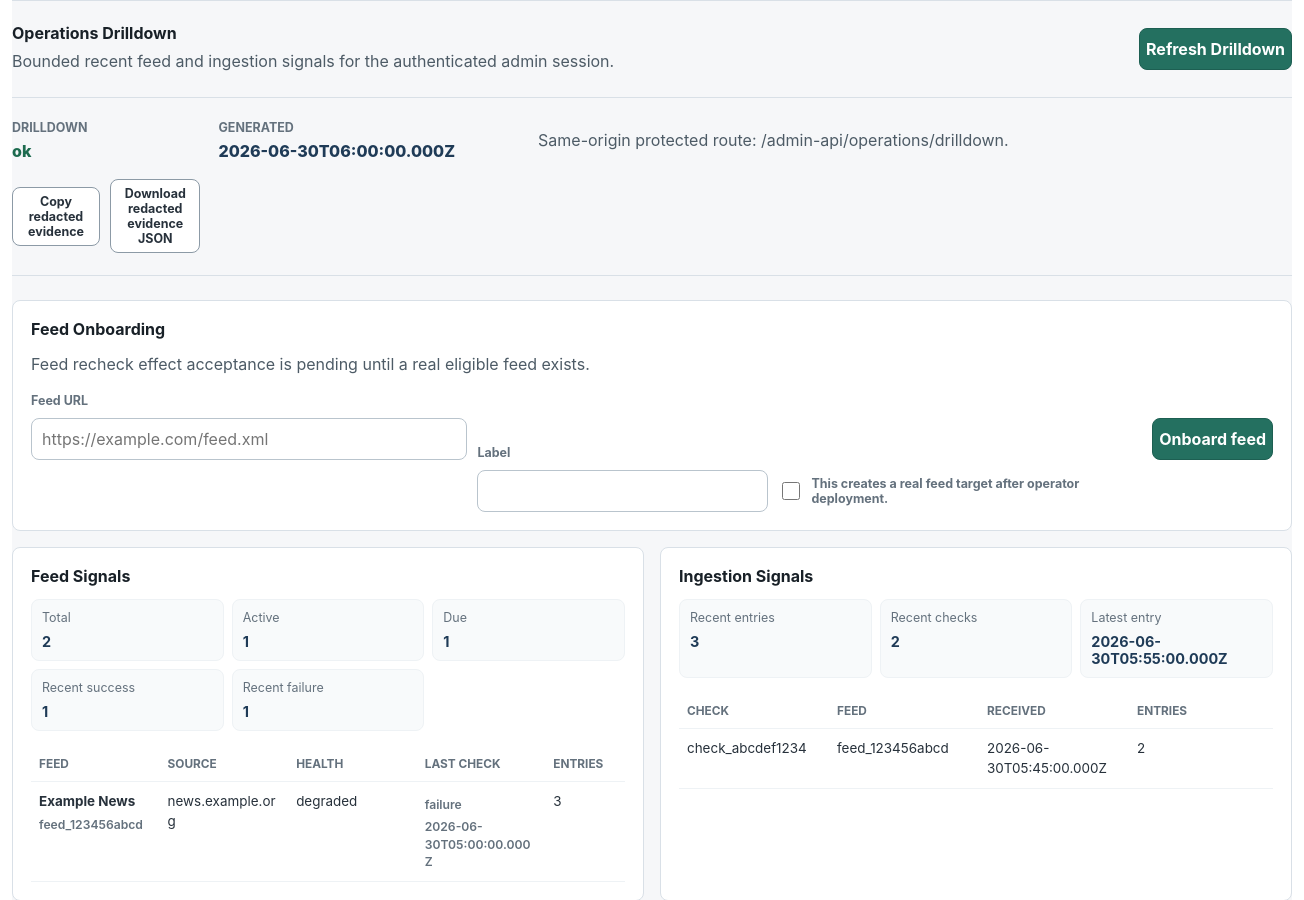
Scenario: OperationsDrilldown › copies redacted browser evidence without leaking action metadata
The width and height of the screenshot is (1304, 900).
Click the button "Copy redacted evidence": (56, 216) [12,186,100,246]
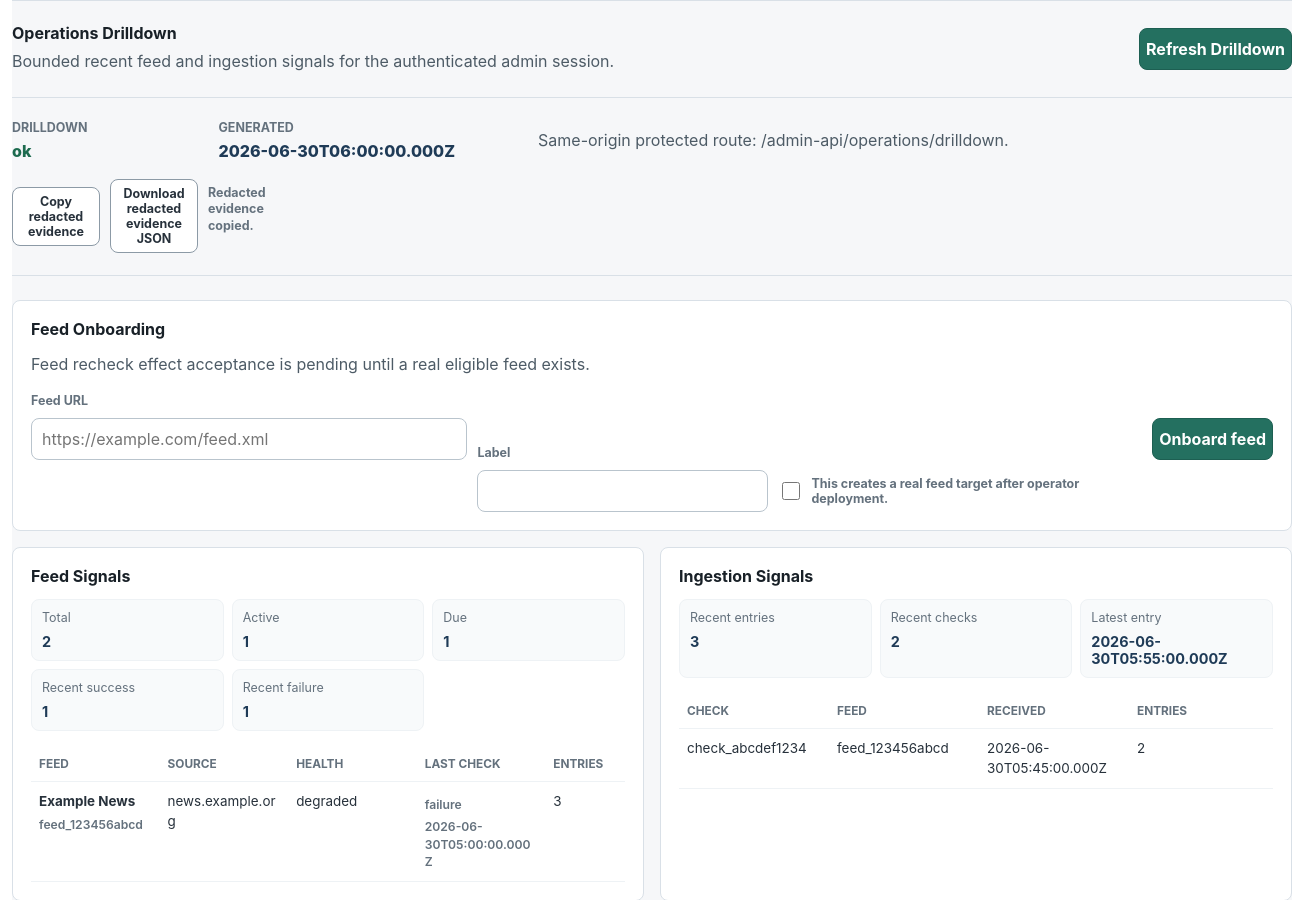
Check: the text "Redacted evidence copied." is shown, box [208,184,266,235]
